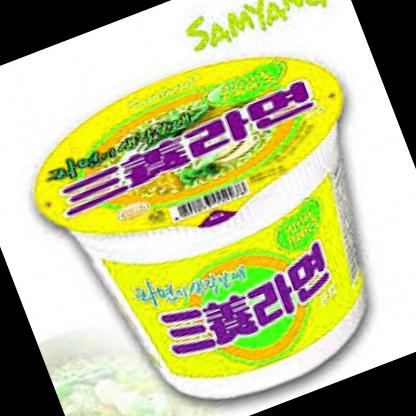Ramen: (13, 15, 416, 416)
